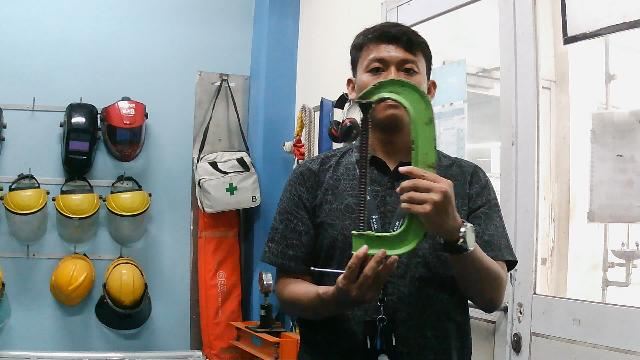tekiro_c_clamp: (349, 75, 440, 270)
